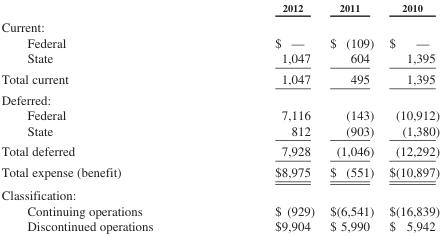table: (0, 1, 439, 233)
table column: (0, 1, 213, 233), (213, 1, 321, 233), (321, 1, 380, 233), (380, 1, 439, 233)
table column header: (0, 1, 439, 16)
table projected row header: (0, 88, 439, 107), (0, 183, 439, 202), (0, 16, 439, 34)
table row: (0, 161, 439, 183), (0, 140, 439, 161), (0, 68, 439, 88), (0, 88, 439, 107), (0, 183, 439, 202), (0, 16, 439, 34), (0, 50, 439, 68), (0, 122, 439, 140), (0, 34, 439, 50), (0, 202, 439, 218), (0, 1, 439, 16), (0, 107, 439, 122), (0, 218, 439, 233)
